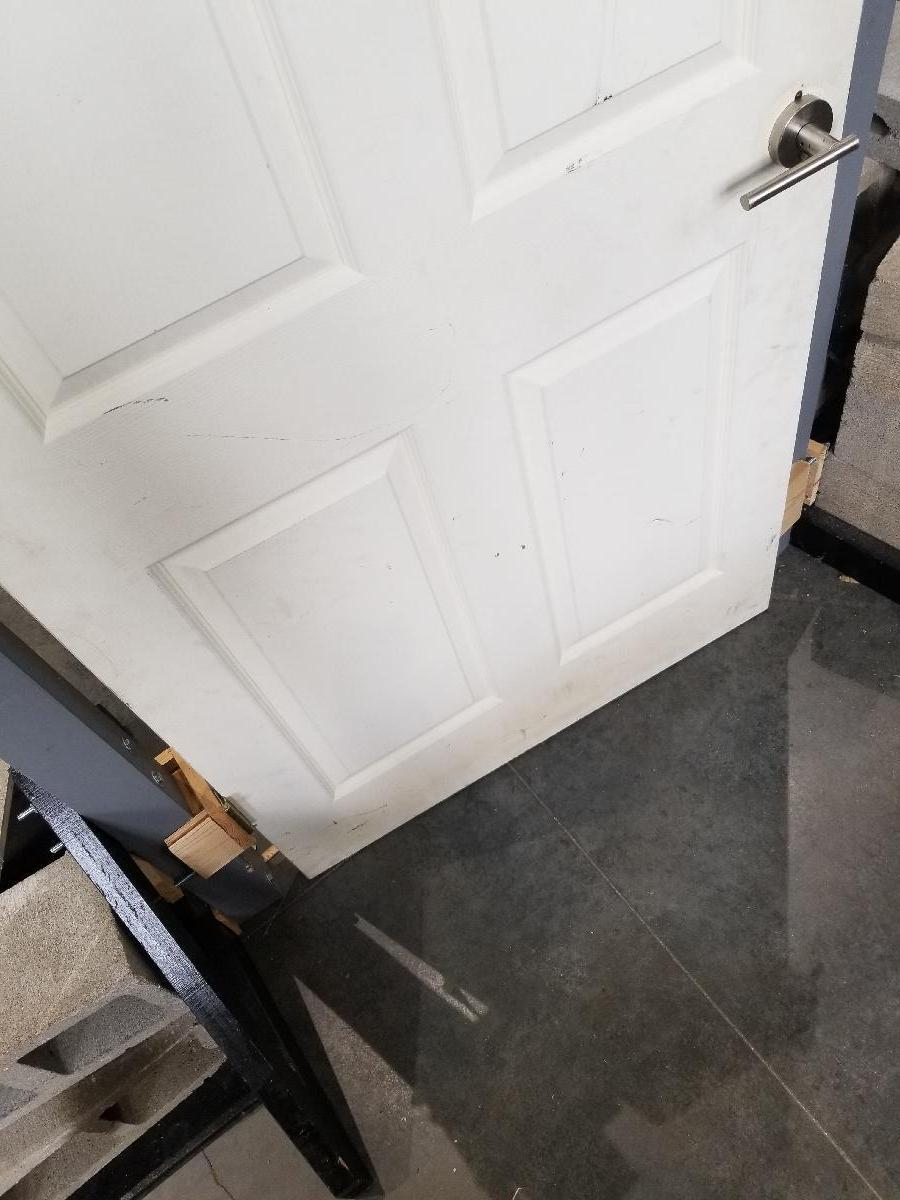door: (13, 13, 821, 757)
handle: (736, 93, 862, 212)
